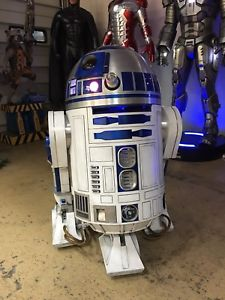r2d2: (48, 45, 182, 277)
